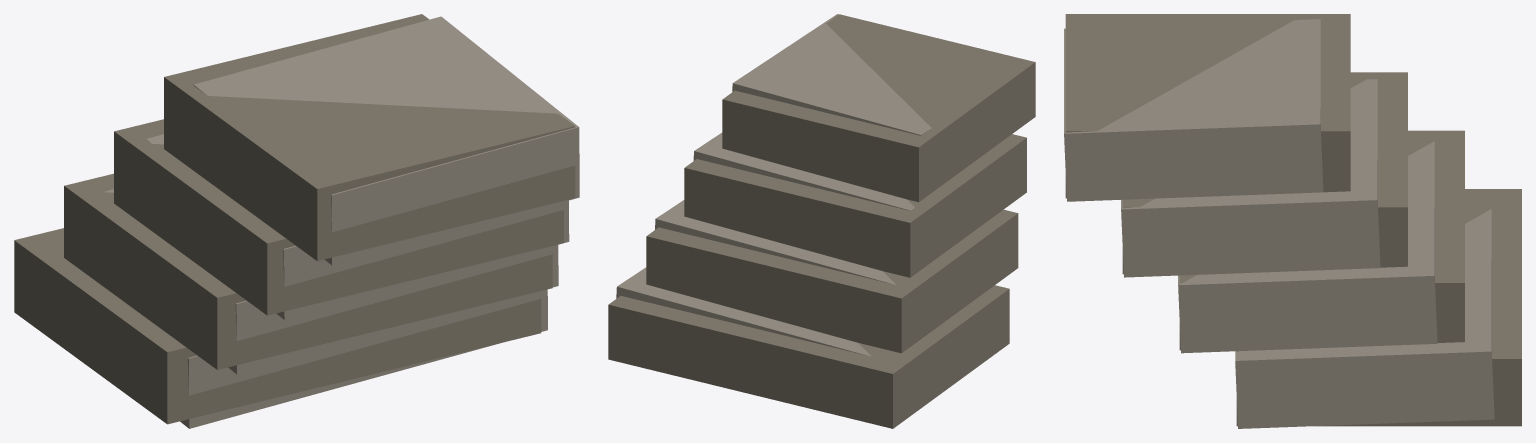
File: land-forest-34.glb
The picture shows the model from 3 angles, left to right: view 1: azimuth 30°, elevation 25°; view 2: azimuth 150°, elevation 25°; view 3: azimuth 270°, elevation 25°; orthographic projection. The views are drawn at different scales.
Parts seen in each view (by area): view 1: land.forest.34; view 2: land.forest.34; view 3: land.forest.34.
Part boxes in pixels (x1=…): land.forest.34: x1=14, y1=14, x2=579, y2=428; land.forest.34: x1=608, y1=14, x2=1035, y2=428; land.forest.34: x1=1064, y1=14, x2=1521, y2=428.
Bounding box in the file's own units: 1.97 × 1.52 × 2.21.
